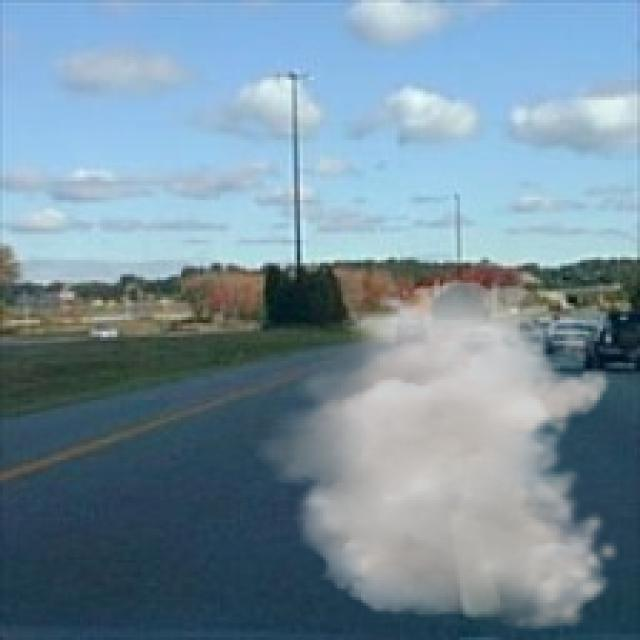Smoke: (248, 279, 623, 632)
